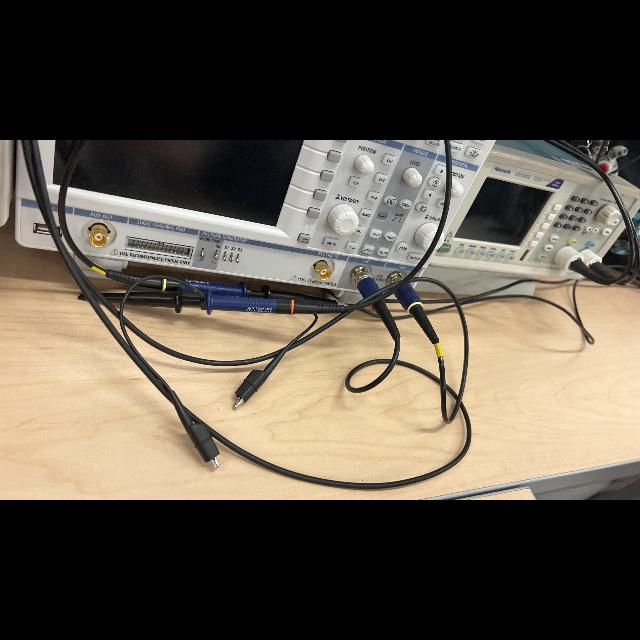Digital-Oscilloscope: (18, 140, 496, 302)
